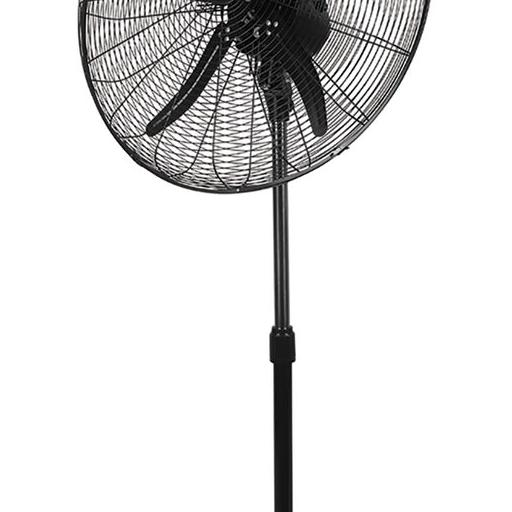Fan: (76, 0, 436, 194)
